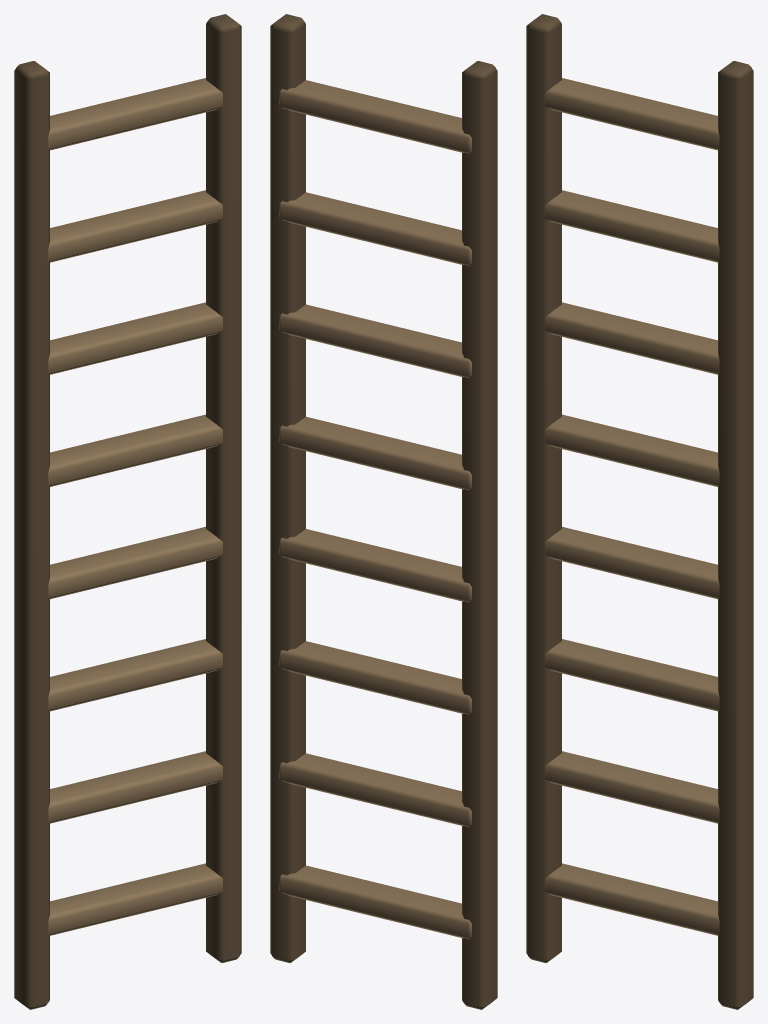
File: Ladder02.fbx
3 views of the same model, side by side, from view 1: azimuth 30°, elevation 25°; view 2: azimuth 150°, elevation 25°; view 3: azimuth 330°, elevation 25° (orthographic).
Visible parts, largest first — view 1: Ladder02; view 2: Ladder02; view 3: Ladder02.
Boxes of the visible parts, x1,y1,x2,y2 form: Ladder02: (14, 14, 241, 1009); Ladder02: (270, 14, 497, 1009); Ladder02: (526, 14, 753, 1009).
Bounding box in the file's own units: 56.5 × 234 × 8.25.
